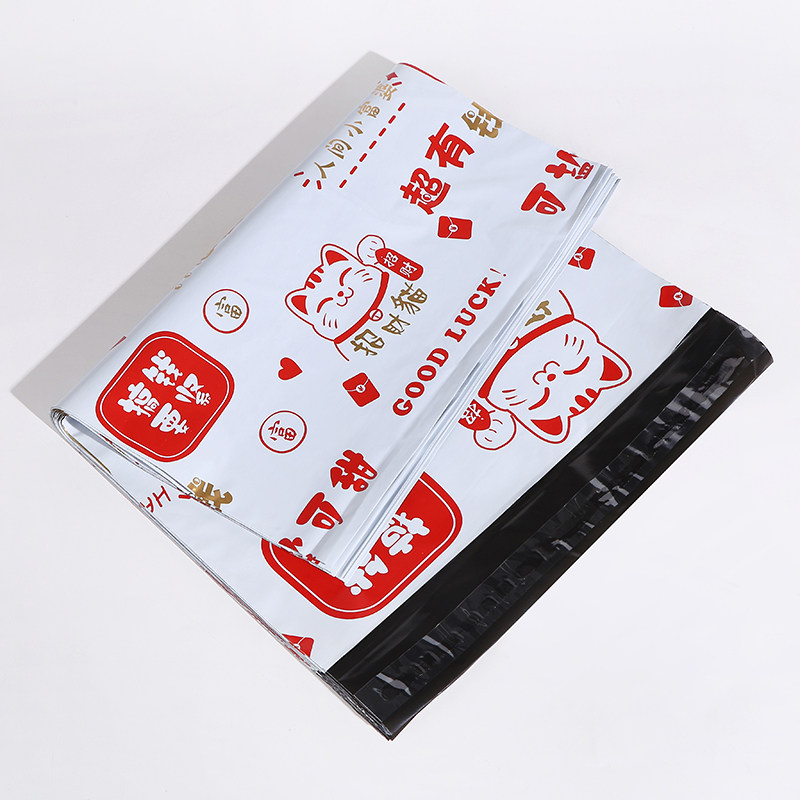Parcel: (15, 57, 772, 739)
